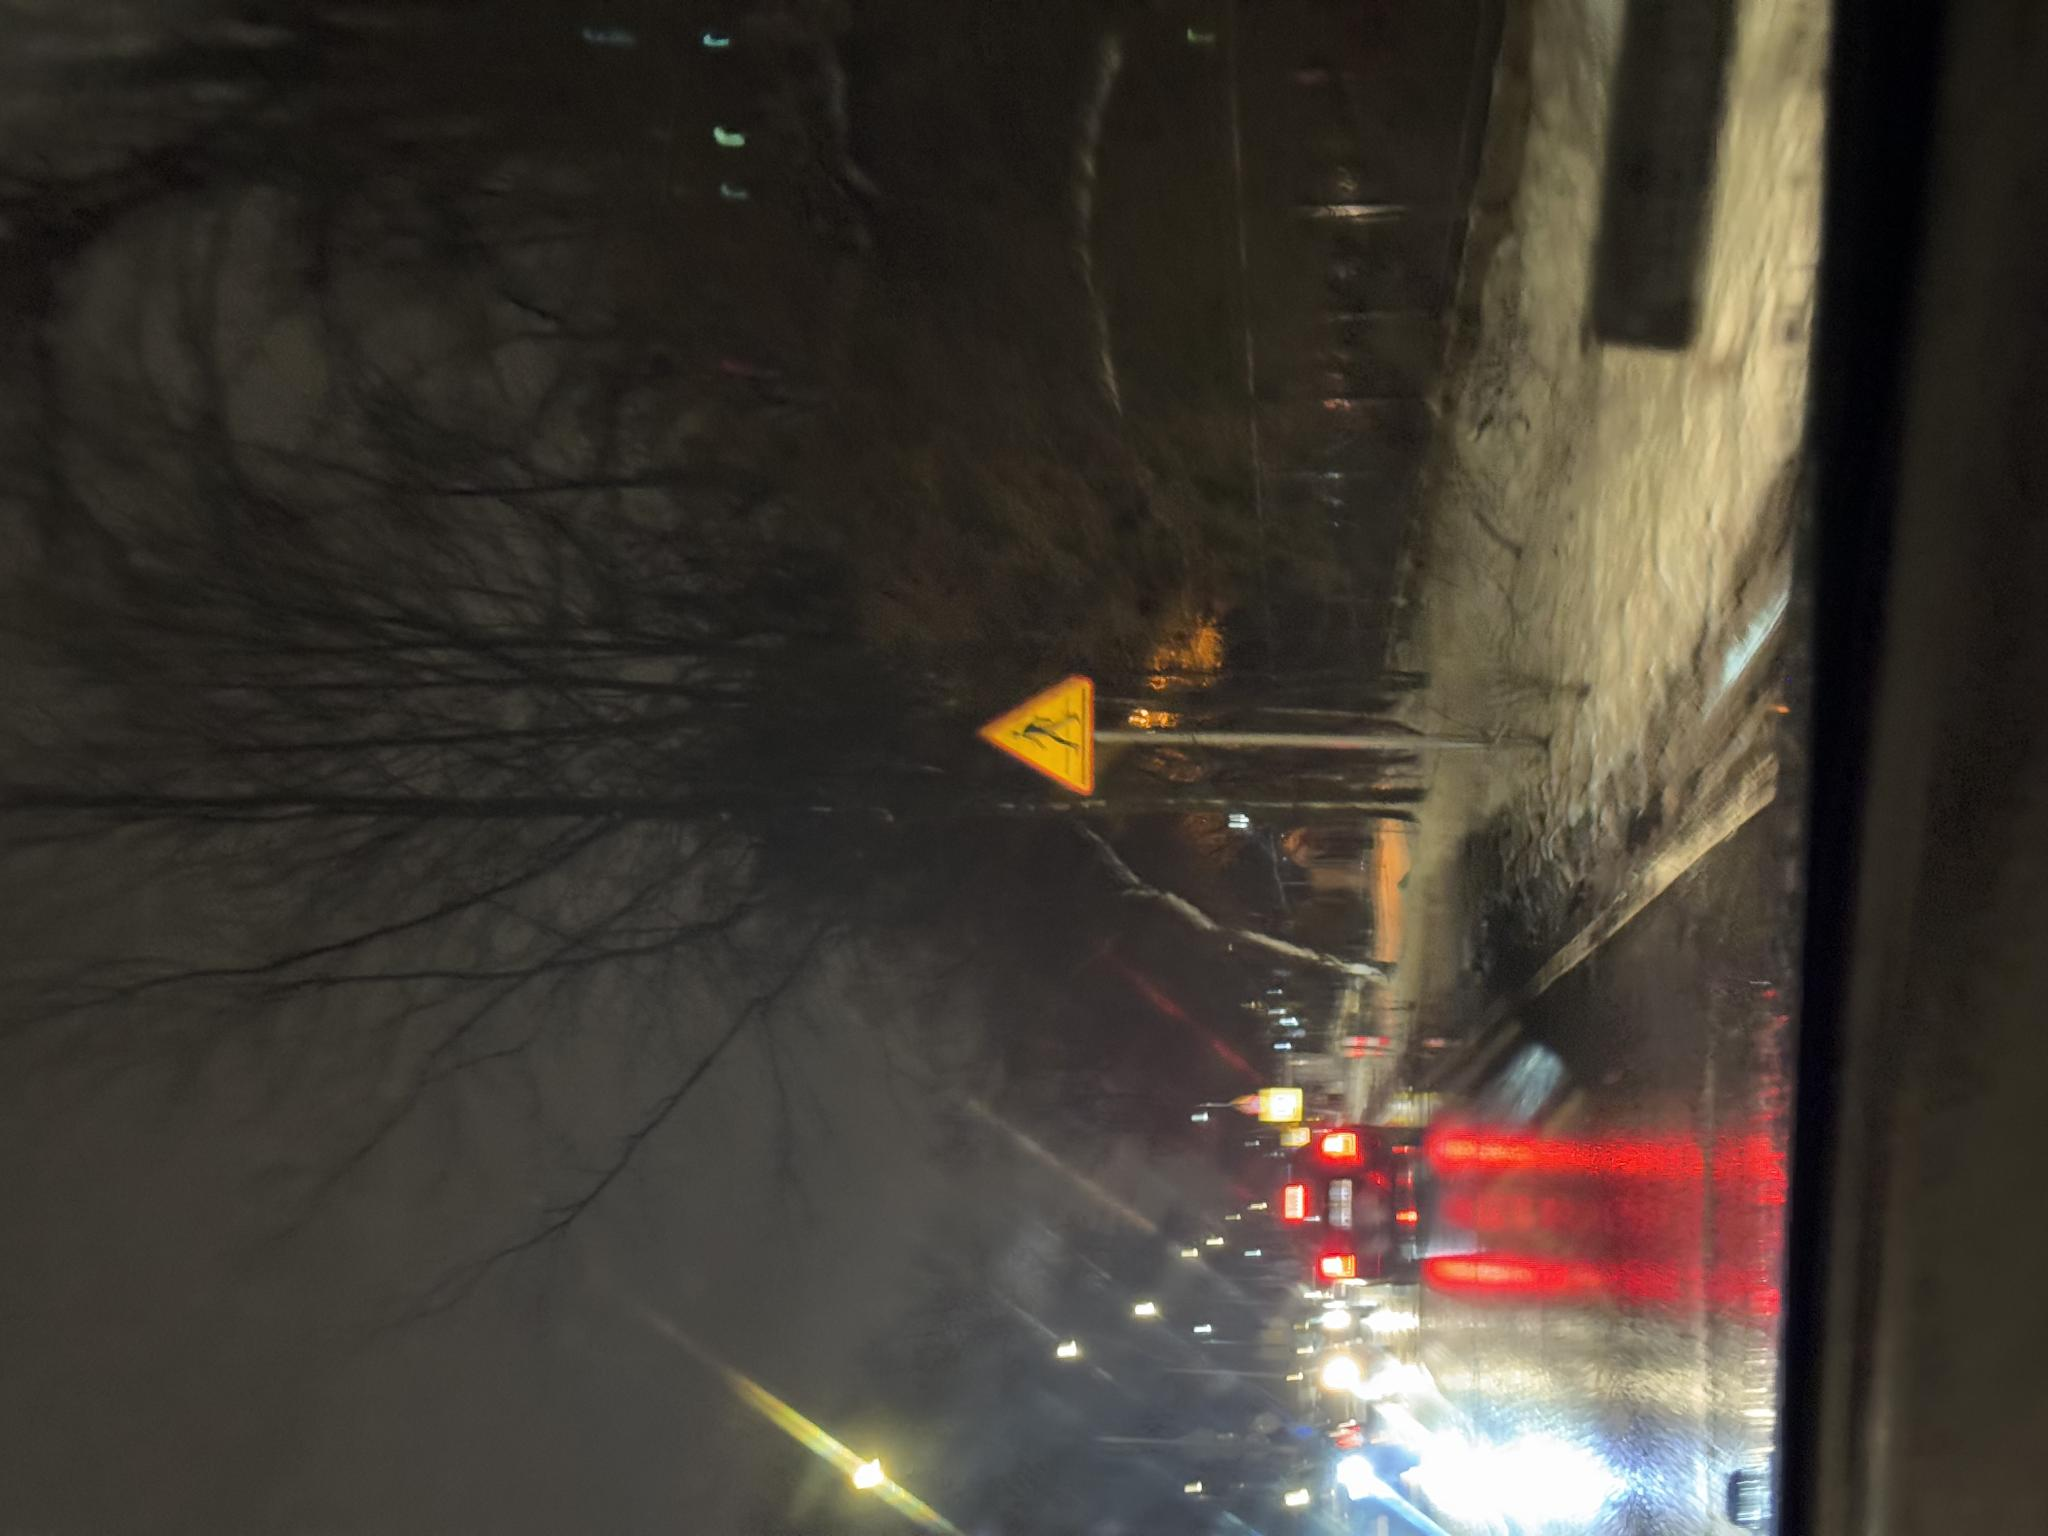warning: (739, 978, 863, 1097)
